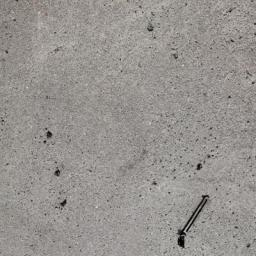FOD: (175, 189, 213, 251)
